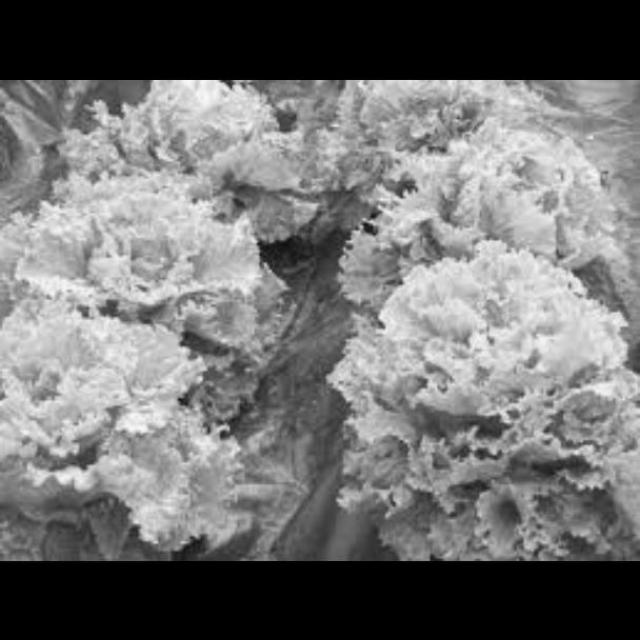salad: (317, 78, 639, 560), (0, 78, 314, 559)
